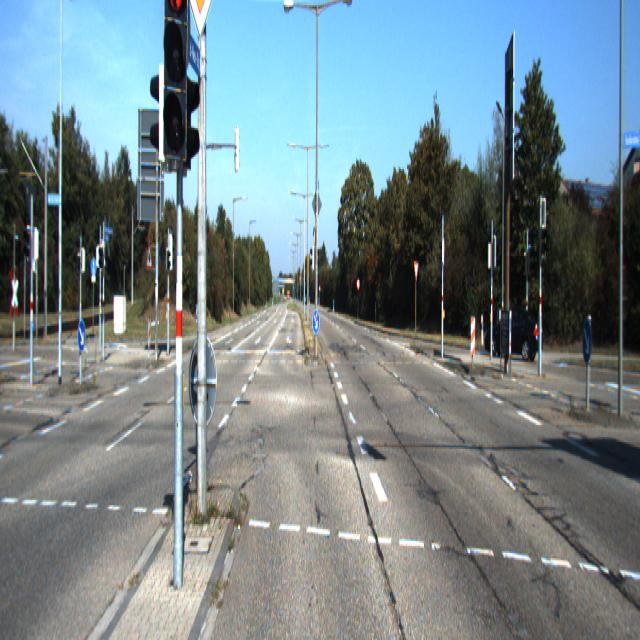Car: (484, 302, 542, 364)
